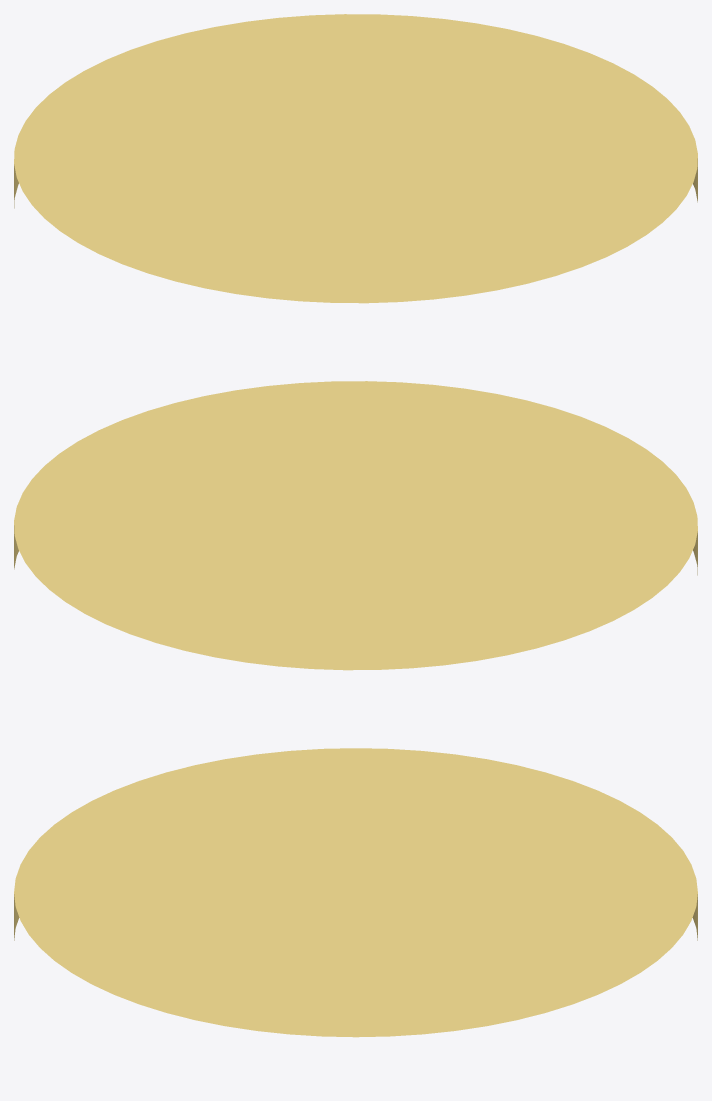
File: coin.glb
The picture shows the model from 3 angles, top to bottom: view 1: azimuth 30°, elevation 25°; view 2: azimuth 150°, elevation 25°; view 3: azimuth 270°, elevation 25°; orthographic projection.
Visible parts, largest first — view 1: coin; view 2: coin; view 3: coin.
Boxes of the visible parts, x1,y1,x2,y2 form: coin: (14,14,697,303); coin: (14,381,697,670); coin: (14,748,697,1037).
Size of the model in its own units: 2 by 0.16 by 2.
